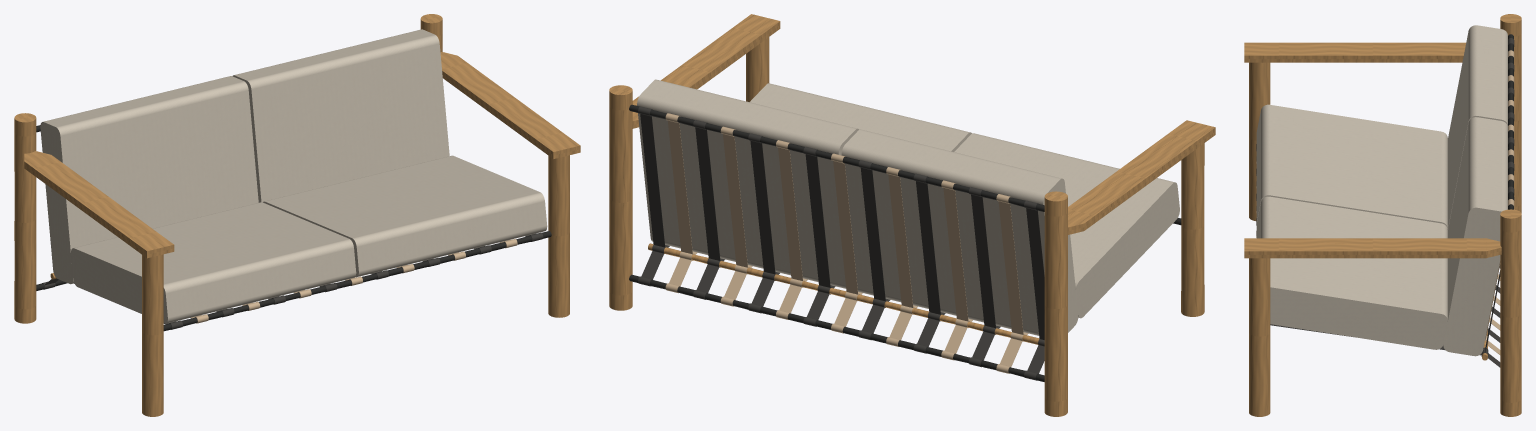
File: sofa_colored_oak_beige.glb
3 views of the same model, side by side, from view 1: azimuth 30°, elevation 25°; view 2: azimuth 150°, elevation 25°; view 3: azimuth 270°, elevation 25° (orthographic). The views are drawn at different scales.
Parts seen in each view (by area): view 1: Выдавливание [15229], Выдавливание [10652], Объемная геометрия присоедин_b52d519, Выдавливание [13989], Выдавливание [15240], Выдавливание [3724]; view 2: Объемная геометрия присоедин_b52d519, Выдавливание [10652], Выдавливание [15229], Выдавливание [13989], Выдавливание [15240], Выдавливание [3724], Выдавливание [6461], Выдавливание [9117], Выдавливание [22126], Выдавливание [7256], Выдавливание [16659], Выдавливание [18613] (+10 smaller); view 3: Объемная геометрия присоедин_b52d519, Выдавливание [15240], Выдавливание [13989], Выдавливание [15229], Выдавливание [10652], Выдавливание [3724], Выдавливание [23417].
Part boxes in pixels (<box>): Выдавливание [15229]: <box>232,29,449,202</box>; Выдавливание [10652]: <box>40,76,258,284</box>; Объемная геометрия присоедин_b52d519: <box>14,14,580,416</box>; Выдавливание [13989]: <box>71,202,356,323</box>; Выдавливание [15240]: <box>263,155,547,277</box>; Выдавливание [3724]: <box>36,125,551,331</box>; Объемная геометрия присоедин_b52d519: <box>609,14,1215,416</box>; Выдавливание [10652]: <box>841,129,1078,335</box>; Выдавливание [15229]: <box>637,79,859,288</box>; Выдавливание [13989]: <box>954,133,1179,318</box>; Выдавливание [15240]: <box>750,83,971,151</box>; Выдавливание [3724]: <box>629,104,1181,381</box>; Выдавливание [6461]: <box>996,194,1028,373</box>; Выдавливание [9117]: <box>858,160,890,340</box>; Выдавливание [22126]: <box>665,113,697,293</box>; Выдавливание [7256]: <box>941,180,972,360</box>; Выдавливание [16659]: <box>803,147,835,326</box>; Выдавливание [18613]: <box>748,133,779,313</box>; Объемная геометрия присоедин_b52d519: <box>1244,14,1521,416</box>; Выдавливание [15240]: <box>1256,196,1447,349</box>; Выдавливание [13989]: <box>1256,104,1447,228</box>; Выдавливание [15229]: <box>1443,117,1507,356</box>; Выдавливание [10652]: <box>1447,25,1507,229</box>; Выдавливание [3724]: <box>1508,34,1513,209</box>; Выдавливание [23417]: <box>1270,270,1500,367</box>.
Size of the model in its own units: 1.6 by 0.71 by 0.9.
Materials: 5 (2 with a texture image).
